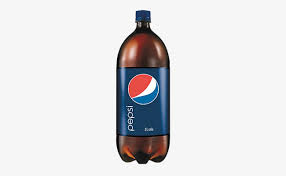bottle: (115, 9, 170, 163)
pepsi: (125, 73, 162, 105)
plastic: (115, 9, 170, 162)
